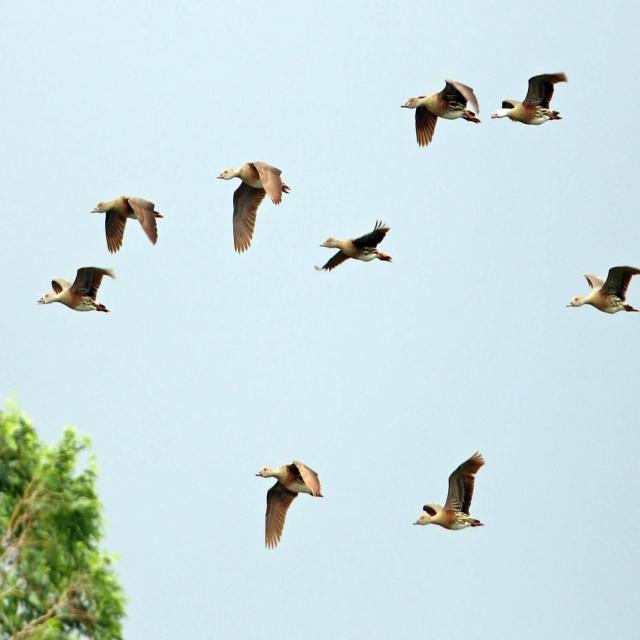bird: (218, 162, 292, 260), (412, 453, 489, 535), (256, 461, 323, 552), (399, 81, 483, 152), (88, 196, 166, 256), (494, 72, 569, 128), (318, 221, 397, 274), (38, 266, 118, 315), (566, 266, 638, 319)
